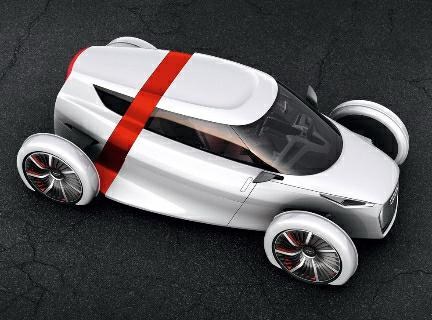奥迪-Urban: (12, 28, 423, 300)
